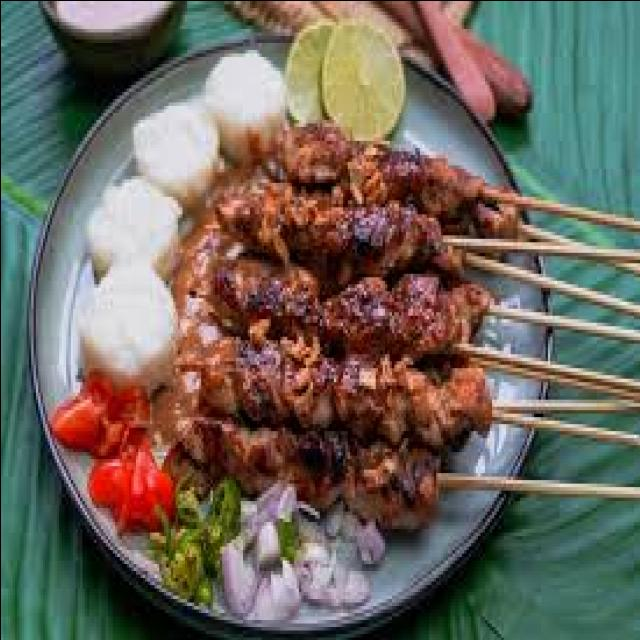sate: (204, 114, 640, 560)
